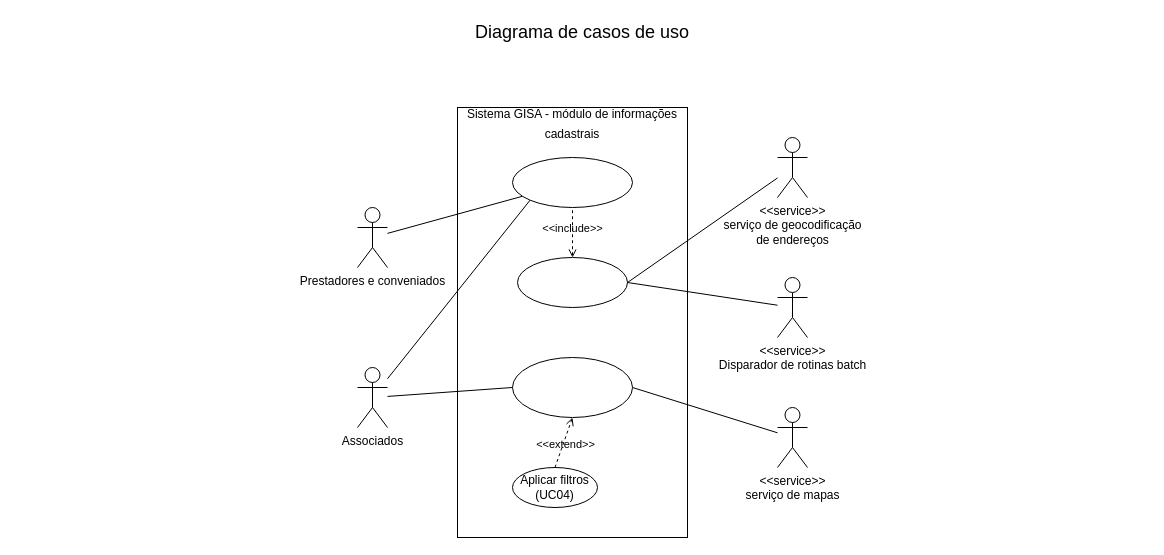
This 1164x555 diagram has some shape labels left out. The centre of each missing label's shape, as x and y in pixels:
"Cadastrar endereço (UC01)" belongs at (x=572, y=182).
"Consultar localização em mapa (UC03)" belongs at (x=572, y=387).
"Geocodificar endereço (UC02)" belongs at (x=572, y=282).
